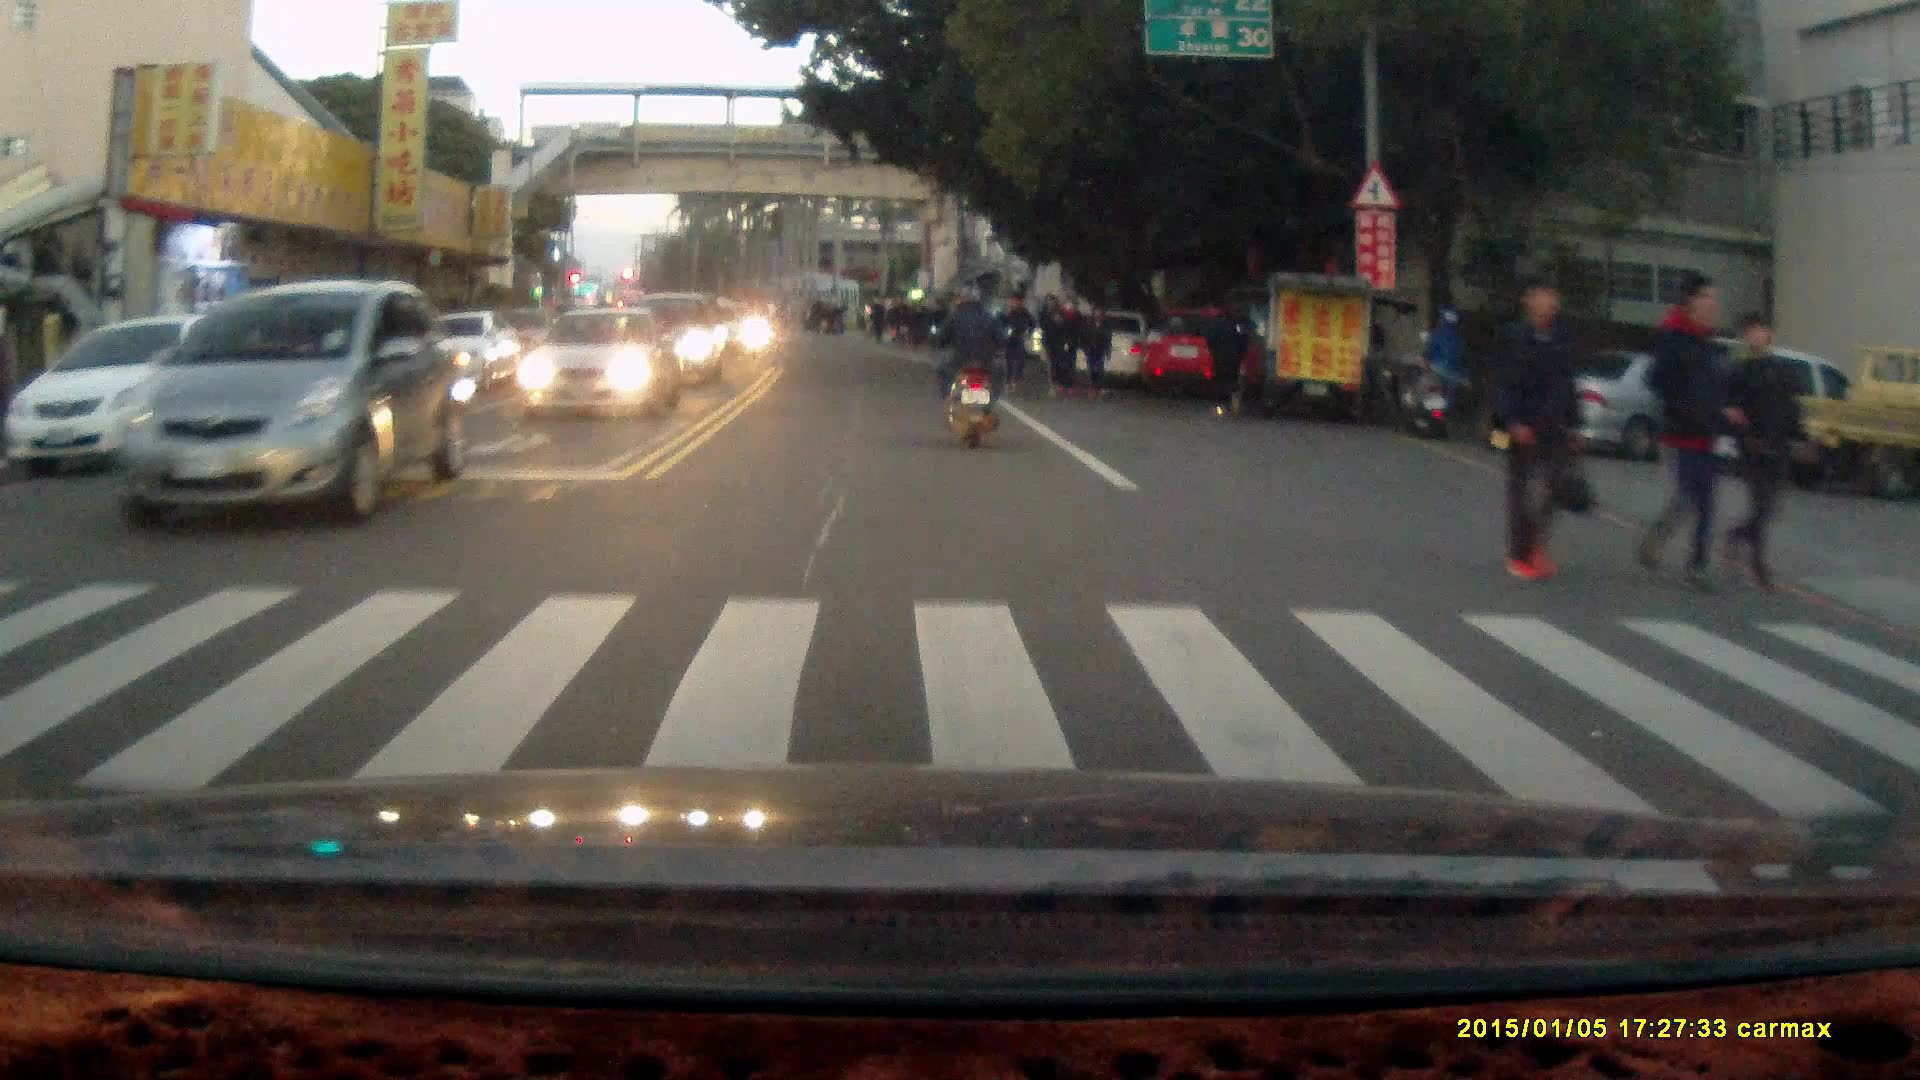pedestrian: (1484, 273, 1595, 589), (1635, 271, 1735, 586), (1722, 306, 1804, 594), (1198, 291, 1249, 422), (994, 290, 1030, 405), (1037, 291, 1070, 399), (1079, 300, 1113, 397)
rider: (929, 281, 1012, 448)
vehicle: (106, 274, 469, 531), (1525, 336, 1791, 469), (1723, 345, 1920, 504), (514, 306, 677, 422), (1137, 306, 1276, 402), (621, 290, 730, 390)
